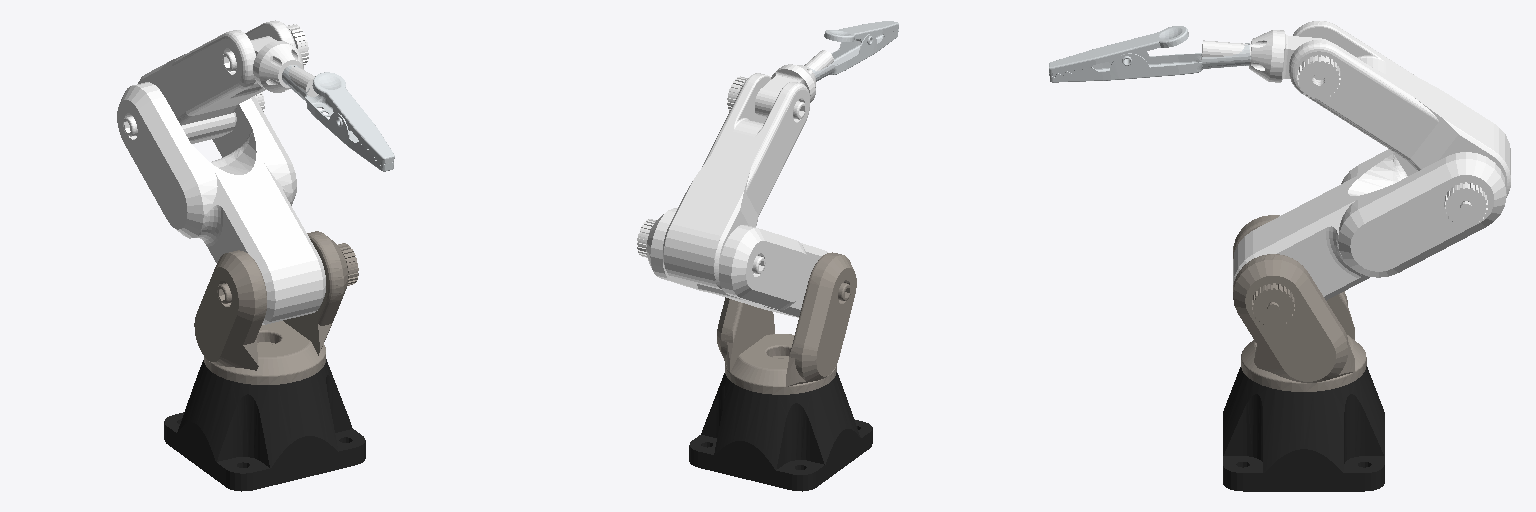
robot.urdf — magnetic_robot:
<?xml version="1.0" encoding="utf-8"?>
<!-- This URDF was automatically created by SolidWorks to URDF Exporter! Originally created by [author] ([email redacted]) 
     Commit Version: 1.5.1-0-g916b5db  Build Version: 1.5.7152.31018
     For more information, please see http://wiki.ros.org/sw_urdf_exporter -->
<robot  xmlns:xacro="http://www.ros.org/wiki/xacro" name="magnetic_robot">
  <link
    name="base_link">
    <inertial>
      <origin
        xyz="-5.57014653655014E-08 -1.64017849302311E-09 0.0110503085439139"
        rpy="0 0 0" />
      <mass
        value="1.8830632182665" />
      <inertia
        ixx="0.01"
        ixy="0"
        ixz="0"
        iyy="0.01"
        iyz="0.01"
        izz="0" />
    </inertial>
    <visual>
      <origin
        xyz="0 0 0"
        rpy="0 0 0" />
      <geometry>
        <mesh
          filename="package://magnetic_robot/meshes/base_link.STL" />
      </geometry>
      <material
        name="">
        <color
          rgba="0.2 0.2 0.2 1" />
      </material>
    </visual>
    <collision>
      <origin
        xyz="0 0 0"
        rpy="0 0 0" />
      <geometry>
        <mesh
          filename="package://magnetic_robot/meshes/base_link.STL" />
      </geometry>
    </collision>
  </link>

  <gazebo reference="base_link">
  <selfCollide>true</selfCollide>
    <mu1>0.1</mu1>
    <mu2>0.1</mu2>
    <kp>100000000</kp>
    <kd>0.1</kd>
    <material>Gazebo/Gray</material>
  </gazebo>  

  <link name="world"/>
  <joint name="world_joint" type="fixed">
    <parent link="world" />
    <child link = "base_link" />
    <origin xyz="0.0 0.0 0.0" rpy="0.0 0.0 0.0" />
  </joint>

  <link
    name="link_1">
    <inertial>
      <origin
        xyz="8.68581727226907E-05 -0.00235577044185772 0.0132126846360901"
        rpy="0 0 0" />
      <mass
        value="0.0912441845049387" />
      <inertia
        ixx="0.01"
        ixy="0"
        ixz="0"
        iyy="0.01"
        iyz="0"
        izz="0.01" />
    </inertial>
    <visual>
      <origin
        xyz="0 0 0"
        rpy="0 0 0" />
      <geometry>
        <mesh
          filename="package://magnetic_robot/meshes/link_1.STL" />
      </geometry>
      <material
        name="">
        <color
          rgba="0.647058823529412 0.619607843137255 0.588235294117647 1" />
      </material>
    </visual>
    <collision>
      <origin
        xyz="0 0 0"
        rpy="0 0 0" />
      <geometry>
        <mesh
          filename="package://magnetic_robot/meshes/link_1.STL" />
      </geometry>
    </collision>
  </link>

  <gazebo reference="link_1">
    <selfCollide>true</selfCollide>
    <mu1>0.1</mu1>
    <mu2>0.1</mu2>
    <kp>1000000</kp>
    <kd>0.1</kd>
    <material>Gazebo/Gray</material>
  </gazebo>  

  <joint
    name="joint_base_1"
    type="continuous">
    <origin
      xyz="0 0 0.025"
      rpy="0 0 0" />
    <parent
      link="base_link" />
    <child
      link="link_1" />
    <axis
      xyz="0 0 1" />
    <limit
      lower="-3.1416"
      upper="3.1416"
      effort="1000"
      velocity="10" />
  </joint>

  <link
    name="link_2">
    <inertial>
      <origin
        xyz="-0.013135555797142 0.0231580521879061 -0.0087311072192781"
        rpy="0 0 0" />
      <mass
        value="0.059523127189033" />
      <inertia
        ixx="0.01"
        ixy="0"
        ixz="0"
        iyy="0.01"
        iyz="0"
        izz="0.01" />
    </inertial>
    <visual>
      <origin
        xyz="0 0 0"
        rpy="0 0 0" />
      <geometry>
        <mesh
          filename="package://magnetic_robot/meshes/link_2.STL" />
      </geometry>
      <material
        name="">
        <color
          rgba="1 1 1 1" />
      </material>
    </visual>
    <collision>
      <origin
        xyz="0 0 0"
        rpy="0 0 0" />
      <geometry>
        <mesh
          filename="package://magnetic_robot/meshes/link_2.STL" />
      </geometry>
    </collision>
  </link>

  <gazebo reference="link_2">
    <selfCollide>true</selfCollide>
    <mu1>0.1</mu1>
    <mu2>0.1</mu2>
    <kp>1000000</kp>
    <kd>0.1</kd>
    <material>Gazebo/Gray</material>
  </gazebo>  

  <joint
    name="joint_12"
    type="revolute">
    <origin
      xyz="0.009 -0.0075 0.025"
      rpy="0 1.5707963267949 0" />
    <parent
      link="link_1" />
    <child
      link="link_2" />
    <axis
      xyz="0 0 1" />
    <limit
      lower="-3.1416"
      upper="3.1416"
      effort="1000"
      velocity="19" />
  </joint>
  <link
    name="link_3">
    <inertial>
      <origin
        xyz="-0.0130925655663325 -0.0125488665688617 -0.00876095486401757"
        rpy="0 0 0" />
      <mass
        value="0.0167127175588588" />
      <inertia
        ixx="0.001"
        ixy="0"
        ixz="0"
        iyy="0.001"
        iyz="0"
        izz="0.001" />
    </inertial>
    <visual>
      <origin
        xyz="0 0 0"
        rpy="0 0 0" />
      <geometry>
        <mesh
          filename="package://magnetic_robot/meshes/link_3.STL" />
      </geometry>
      <material
        name="">
        <color
          rgba="1 1 1 1" />
      </material>
    </visual>
    <collision>
      <origin
        xyz="0 0 0"
        rpy="0 0 0" />
      <geometry>
        <mesh
          filename="package://magnetic_robot/meshes/link_3.STL" />
      </geometry>
    </collision>
  </link>

  <gazebo reference="link_3">
    <selfCollide>true</selfCollide>
    <mu1>0.1</mu1>
    <mu2>0.1</mu2>
    <kp>1000000</kp>
    <kd>1</kd>
    <material>Gazebo/Gray</material>
  </gazebo>  

  <joint
    name="joint_23"
    type="revolute">
    <origin
      xyz="-0.0275 0.047631 0"
      rpy="0 0 0" />
    <parent
      link="link_2" />
    <child
      link="link_3" />
    <axis
      xyz="0 0 1" />
    <limit
      lower="-3.1416"
      upper="3.1416"
      effort="1000"
      velocity="10" />
  </joint>

  <link
    name="link_4">
    <inertial>
      <origin
        xyz="-0.00094099689764271 -0.0107556857698121 -0.00399997580729407"
        rpy="0 0 0" />
      <mass
        value="0.00201825548540404" />
      <inertia
        ixx="0.001"
        ixy="0"
        ixz="0"
        iyy="0.001"
        iyz="0"
        izz="0.001" />
      </inertial>
    <visual>
      <origin
        xyz="0 0 0"
        rpy="0 0 0" />
      <geometry>
        <mesh
          filename="package://magnetic_robot/meshes/link_4.STL" />
      </geometry>
      <material
        name="">
        <color
          rgba="1 1 1 1" />
      </material>
    </visual>
    <collision>
      <origin
        xyz="0 0 0"
        rpy="0 0 0" />
      <geometry>
        <mesh
          filename="package://magnetic_robot/meshes/link_4.STL" />
      </geometry>
    </collision>
  </link>

  <gazebo reference="link_4">
    <selfCollide>true</selfCollide>
    <mu1>0.1</mu1>
    <mu2>0.1</mu2>
    <kp>1000000</kp>
    <kd>1</kd>
    <material>Gazebo/Gray</material>
  </gazebo>  

  <joint
    name="joint_34"
    type="revolute">
    <origin
      xyz="-0.030931 -0.036329 -0.005"
      rpy="0 0 0" />
    <parent
      link="link_3" />
    <child
      link="link_4" />
    <axis
      xyz="0 0 1" />
    <limit
      lower="-3.1416"
      upper="3.1416"
      effort="1000"
      velocity="10" />
  </joint>
  <link
    name="link_5">
    <inertial>
      <origin
        xyz="-3.3570849344855E-07 -0.0010132605222575 0.0221547651415002"
        rpy="0 0 0" />
      <mass
        value="0.000582788402747154" />
      <inertia
        ixx="0.001"
        ixy="0"
        ixz="0"
        iyy="0.001"
        iyz="0"
        izz="0.001" />
      </inertial>
    <visual>
      <origin
        xyz="0 0 0"
        rpy="0 0 0" />
      <geometry>
        <mesh
          filename="package://magnetic_robot/meshes/link_5.STL" />
      </geometry>
      <material
        name="">
        <color
          rgba="0.898039215686275 0.917647058823529 0.929411764705882 1" />
      </material>
    </visual>
    <collision>
      <origin
        xyz="0 0 0"
        rpy="0 0 0" />
      <geometry>
        <mesh
          filename="package://magnetic_robot/meshes/link_5.STL" />
      </geometry>
    </collision>
  </link>

  <gazebo reference="link_5">
    <selfCollide>true</selfCollide>
    <mu1>0.1</mu1>
    <mu2>0.1</mu2>
    <kp>100000</kp>
    <kd>1</kd>
    <material>Gazebo/Gray</material>
  </gazebo>  

  <joint
    name="joint_45"
    type="continuous">
    <origin
      xyz="-0.0014816 -0.016935 -0.004"
      rpy="1.6581 -1.5708 0" />
    <parent
      link="link_4" />
    <child
      link="link_5" />
    <axis
      xyz="0 0 1" />
    <limit
      lower="-3.1416"
      upper="3.1416"
      effort="1000"
      velocity="10" />
  </joint>
  <link
    name="link_6">
    <inertial>
      <origin
        xyz="-0.00165060250118423 -0.000963134335252681 -0.00350018544178326"
        rpy="0 0 0" />
      <mass
        value="0.000328267824519601" />
      <inertia
        ixx="0.001"
        ixy="0"
        ixz="0"
        iyy="0.001"
        iyz="0"
        izz="0.001" />
      </inertial>
    <visual>
      <origin
        xyz="0 0 0"
        rpy="0 0 0" />
      <geometry>
        <mesh
          filename="package://magnetic_robot/meshes/link_6.STL" />
      </geometry>
      <material
        name="">
        <color
          rgba="0.898039215686275 0.917647058823529 0.929411764705882 1" />
      </material>
    </visual>
    <collision>
      <origin
        xyz="0 0 0"
        rpy="0 0 0" />
      <geometry>
        <mesh
          filename="package://magnetic_robot/meshes/link_6.STL" />
      </geometry>
    </collision>
  </link>

  <gazebo reference="link_6">
    <selfCollide>true</selfCollide>
    <mu1>0.1</mu1>
    <mu2>0.1</mu2>
    <kp>1000000</kp>
    <kd>1</kd>
    <material>Gazebo/Gray</material>
  </gazebo>  

  <joint
    name="joint_56"
    type="revolute">
    <origin
      xyz="0.0035 0.0023938 0.030443"
      rpy="-1.5708 0.087266 -1.5708" />
    <parent
      link="link_5" />
    <child
      link="link_6" />
    <axis
      xyz="0 0 1" />
    <limit
      lower="0"
      upper="0"
      effort="1000"
      velocity="10" />
  </joint>

  <!--gazebo>
    <plugin name="gazebo_ros_joint_state_publisher"
        filename="libgazebo_ros_joint_state_publisher.so">
        <update_rate>1000</update_rate>
        <joint_name>joint_base_1</joint_name>
        <joint_name>joint_12</joint_name>
        <joint_name>joint_23</joint_name>
        <joint_name>joint_34</joint_name>
        <joint_name>joint_45</joint_name>
        <joint_name>joint_56</joint_name>
    </plugin>
  </gazebo-->

  <!-- R2 Gazebo Joint config -->
  <ros2_control name="GazeboSystem" type="system">
    <hardware>
      <plugin>gazebo_ros2_control/GazeboSystem</plugin>
    </hardware>    
    <joint name="joint_base_1">
      <command_interface name="position">
        <param name="min">-3.14159</param>
        <param name="max">3.14159</param>
      </command_interface>
      <state_interface name="position"/>
      <state_interface name="velocity"/>
      <state_interface name="effort"/>
    </joint>

    <joint name="joint_12">
      <command_interface name="position">
        <param name="min">-3.14159</param>
        <param name="max">3.14159</param>
      </command_interface>
      <state_interface name="position"/>
      <state_interface name="velocity"/>
      <state_interface name="effort"/>
    </joint>

    <joint name="joint_23">
      <command_interface name="position">
        <param name="min">-3.14159</param>
        <param name="max">3.14159</param>
      </command_interface>
      <state_interface name="position"/>
      <state_interface name="velocity"/>
      <state_interface name="effort"/>
    </joint>

    <joint name="joint_34">
      <command_interface name="position">
        <param name="min">-3.14159</param>
        <param name="max">3.14159</param>
      </command_interface>
      <state_interface name="position"/>
      <state_interface name="velocity"/>
      <state_interface name="effort"/>
    </joint>

    <joint name="joint_45">
      <command_interface name="position">
        <param name="min">-3.14159</param>
        <param name="max">3.14159</param>
      </command_interface>
      <state_interface name="position"/>
      <state_interface name="velocity"/>
      <state_interface name="effort"/>
    </joint>

    <joint name="joint_56">
      <command_interface name="position">
        <param name="min">-3.14159</param>
        <param name="max">3.14159</param>
      </command_interface>
      <state_interface name="position"/>
      <state_interface name="velocity"/>
      <state_interface name="effort"/>
    </joint>
  </ros2_control>


  <gazebo>
    <plugin filename="libgazebo_ros2_control.so" name="gazebo_ros2_control">
      <parameters>[local-path]/magnetic_arm/src/magnetic_robot/config/controller.yaml</parameters>
    </plugin>
  </gazebo>

</robot>

--- What the picture shows (computed from the rendered views, not written in the file) ---
The picture shows the robot from 3 angles, left to right: view 1: azimuth 30°, elevation 25°; view 2: azimuth 150°, elevation 25°; view 3: azimuth 270°, elevation 25°; orthographic projection.
Model magnetic_robot with 8 links and 7 joints (4 revolute, 2 continuous, 1 fixed), rooted at world, posed all joints at 0.
Visible links, largest first — view 1: link_2, base_link, link_1, link_3, link_6, link_4, link_5; view 2: link_3, base_link, link_1, link_2, link_4, link_5, link_6; view 3: link_2, base_link, link_3, link_1, link_5, link_4, link_6.
Boxes of the visible links, box(x1,y1,x2,y2) form: link_2: box(117, 82, 325, 324); base_link: box(164, 359, 365, 491); link_1: box(194, 231, 358, 384); link_3: box(138, 20, 308, 143); link_6: box(312, 72, 394, 164); link_4: box(250, 36, 318, 96); link_5: box(282, 65, 393, 171); link_3: box(663, 73, 809, 289); base_link: box(689, 372, 872, 491); link_1: box(717, 252, 856, 394); link_2: box(637, 208, 827, 317); link_4: box(755, 50, 833, 116); link_5: box(808, 29, 898, 81); link_6: box(824, 21, 898, 44); link_2: box(1233, 149, 1506, 300); base_link: box(1223, 366, 1384, 491); link_3: box(1289, 21, 1510, 197); link_1: box(1233, 215, 1366, 391); link_5: box(1049, 43, 1250, 82); link_4: box(1201, 30, 1327, 82); link_6: box(1049, 26, 1188, 76).
Bounding box of the posed robot: 0.041 × 0.1143 × 0.1166 m (x, y, z).
Meshes: 7 distinct files referenced, 7 mesh visuals loaded (7 binary STL).
